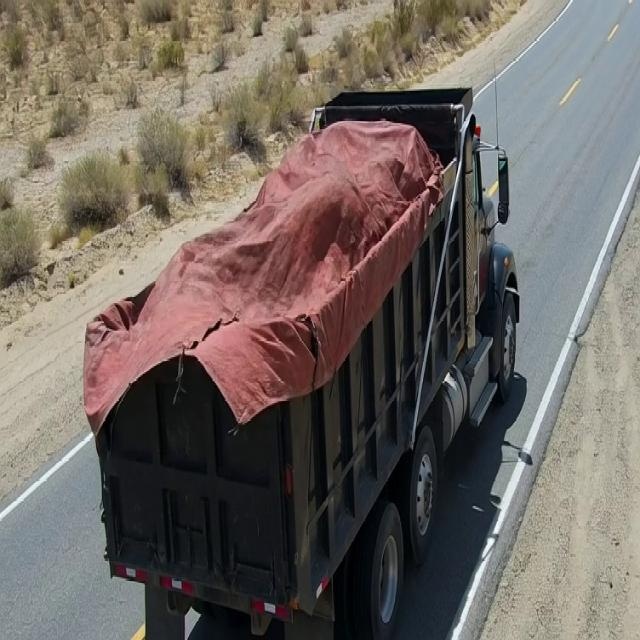Box: (83, 81, 489, 400)
Truck: (63, 57, 540, 628)
